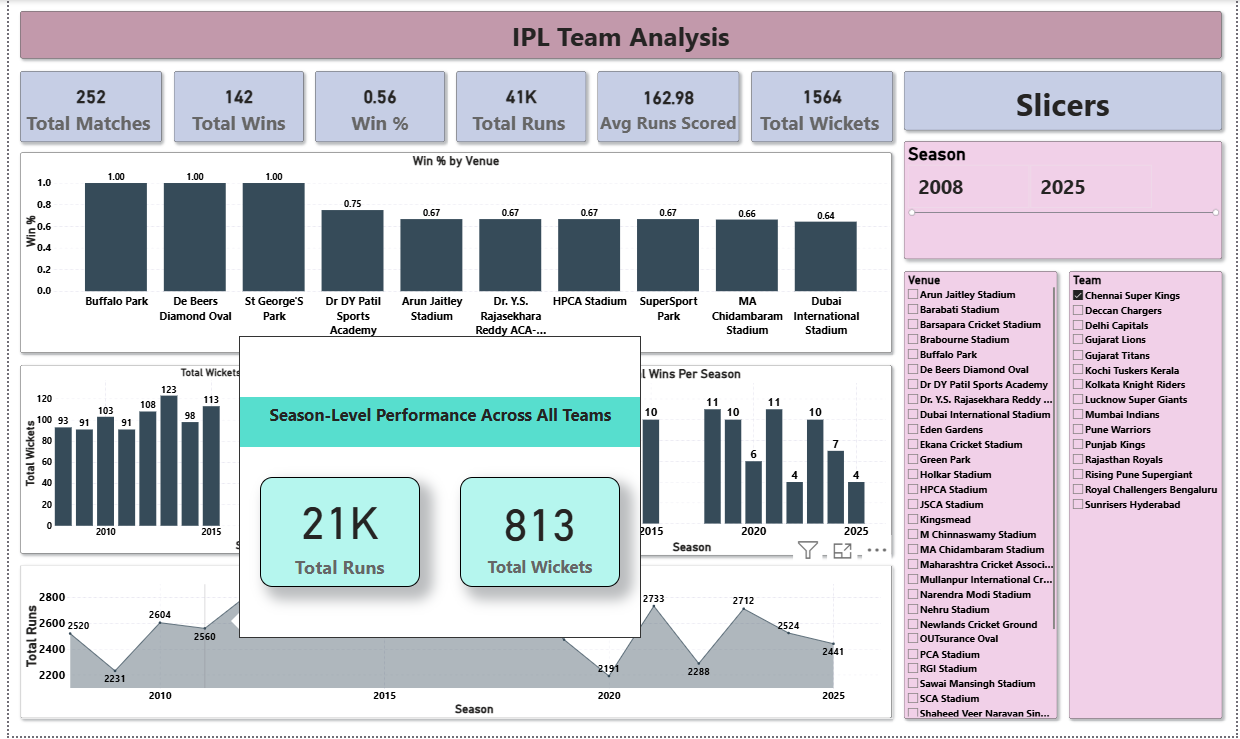

Layout of this report page (visuals, bound fields, positions):
{"tool":"powerbi","page":{"name":"Team Analysis","canvas":[5330,3500],"ordinal":1},"visuals":[{"type":"textbox","box":[112.9,142.7,5082.4,309.1],"z":0},{"type":"card","fields":{"Values":["cleaned_deliveries.Total Matches by Team"]},"box":[112.9,493.4,576.6,285.3],"z":1000},{"type":"card","fields":{"Values":["cleaned_deliveries.Total Wins"]},"box":[737.1,493.4,576.6,285.3],"z":2000},{"type":"card","fields":{"Values":["cleaned_deliveries.Win %"]},"box":[1361.3,493.4,576.6,285.3],"z":3000},{"type":"card","fields":{"Values":["cleaned_deliveries.Avg Runs Scored"]},"box":[2633.3,493.4,576.6,285.3],"z":4000},{"type":"columnChart","title":"Total Wins Per Season","fields":{"Category":["cleaned_matches.season"],"Y":["cleaned_deliveries.Total Wins"]},"box":[2050.8,1777.4,1789.2,820.3],"z":5000},{"type":"lineChart","title":"Total Runs Per Season","fields":{"Category":["cleaned_matches.season"],"Y":["cleaned_deliveries.Total Runs Scored By Team"]},"box":[112.9,2639.3,3727.1,713.3],"z":6000},{"type":"columnChart","title":"Win % by Venue ","fields":{"Category":["cleaned_matches.venue"],"Y":["cleaned_matches.Win % by Venue"]},"box":[112.9,832.2,3727.1,885.7],"z":8000},{"type":"columnChart","title":"Total Wickets Per Season","fields":{"Category":["cleaned_matches.season"],"Y":["cleaned_deliveries.Total Wickets Taken By Team"]},"box":[112.9,1777.4,1884.4,826.3],"z":9000},{"type":"card","fields":{"Values":["cleaned_deliveries.Total Wickets Taken By Team"]},"box":[3263.4,499.3,576.6,285.3],"z":10000},{"type":"slicer","fields":{"Values":["cleaned_matches.season"]},"box":[3899.5,832.2,1295.9,481.5],"z":11000},{"type":"slicer","fields":{"Values":["cleaned_matches.venue"]},"box":[3899.5,1367.2,647.9,1985.4],"z":12000},{"type":"slicer","fields":{"Values":["Teams.Team"]},"box":[4600.9,1367.2,594.4,1985.4],"z":14000},{"type":"textbox","box":[3899.5,499.3,1295.9,279.4],"z":15000},{"type":"card","fields":{"Values":["cleaned_deliveries.Total Runs by Team"]},"box":[1997.3,493.4,576.6,285.3],"z":16000}]}

Visuals, with their boxes on the page's 5330x3500 design canvas (x1, y1, x2, y2). These are canvas units, not pixel positions in the 1240x739 screenshot, which may show the page scaled, cropped or inside an application window:
textbox: 113 143 5195 452
card - cleaned_deliveries.Total Matches by Team: 113 493 690 779
card - cleaned_deliveries.Total Wins: 737 493 1314 779
card - cleaned_deliveries.Win %: 1361 493 1938 779
card - cleaned_deliveries.Avg Runs Scored: 2633 493 3210 779
"Total Wins Per Season" columnChart: 2051 1777 3840 2598
"Total Runs Per Season" lineChart: 113 2639 3840 3353
"Win % by Venue " columnChart: 113 832 3840 1718
"Total Wickets Per Season" columnChart: 113 1777 1997 2604
card - cleaned_deliveries.Total Wickets Taken By Team: 3263 499 3840 785
slicer - cleaned_matches.season: 3900 832 5195 1314
slicer - cleaned_matches.venue: 3900 1367 4547 3353
slicer - Teams.Team: 4601 1367 5195 3353
textbox: 3900 499 5195 779
card - cleaned_deliveries.Total Runs by Team: 1997 493 2574 779
